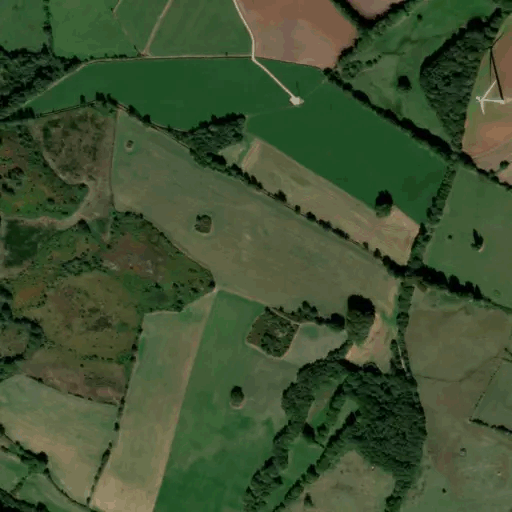wt: (469, 31, 512, 120)
